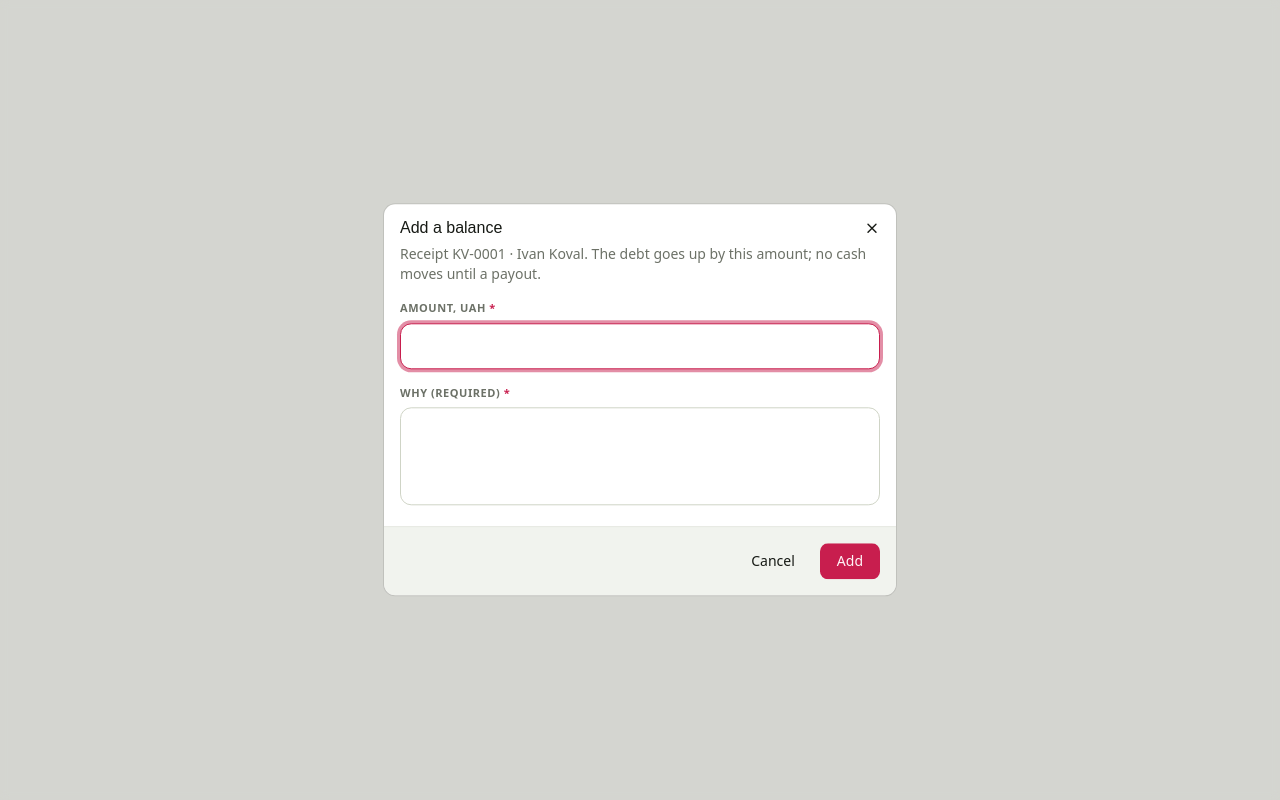
TopUpDialog › refuses a missing reason
Step 1. Type "750" into the field labelled "Amount, UAH" → (640, 346), box left=400, top=323, right=880, bottom=369
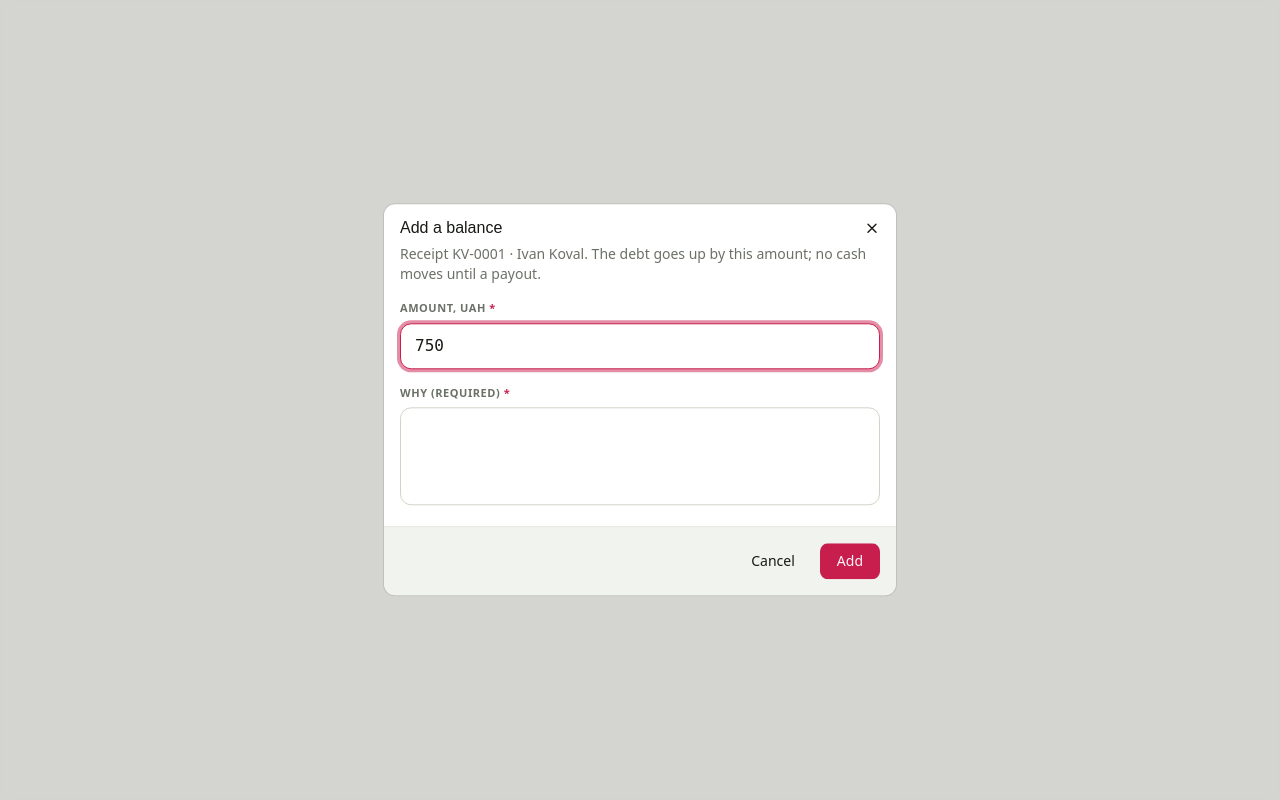
Step 2. Click the button "Add" → click(850, 562), box left=820, top=544, right=880, bottom=580
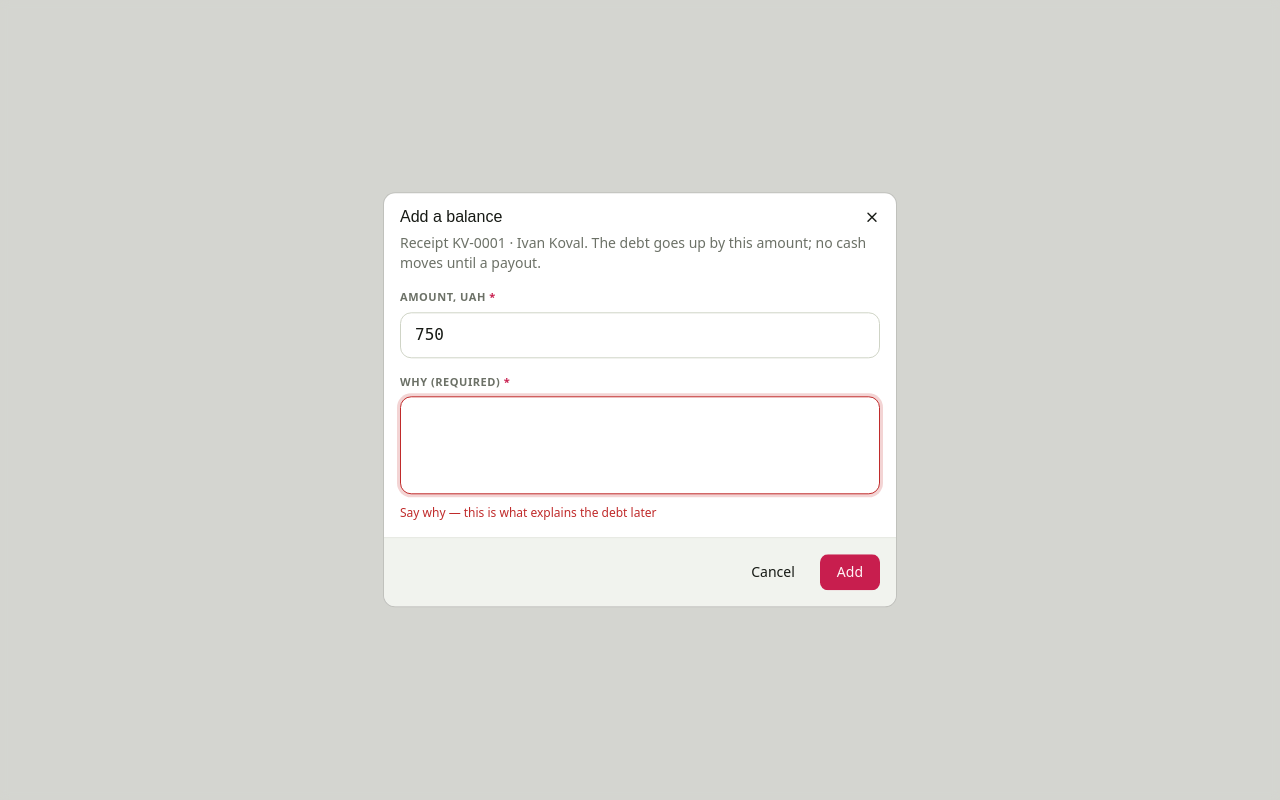
Check: the text "Say why — this is what explains the debt later" is shown, box left=400, top=505, right=656, bottom=522
